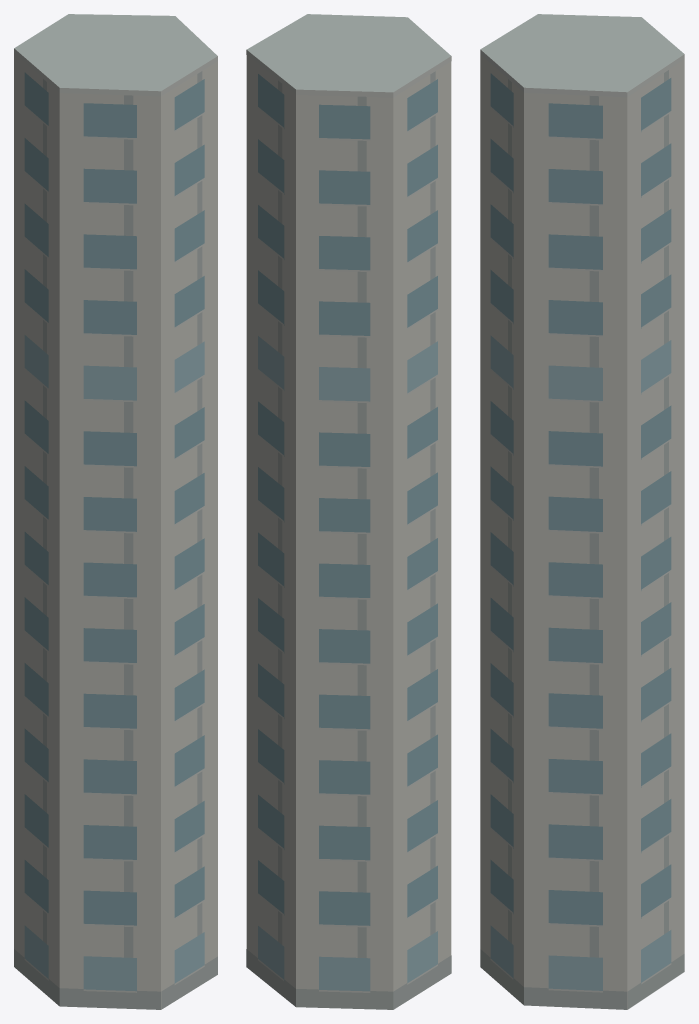
The model's file is survey-upis-32970002.glb.
The picture shows the model from 3 angles, left to right: view 1: azimuth 30°, elevation 25°; view 2: azimuth 150°, elevation 25°; view 3: azimuth 270°, elevation 25°; orthographic projection.
Visible parts, largest first — view 1: survey-upis-32970002.tmp; view 2: survey-upis-32970002.tmp; view 3: survey-upis-32970002.tmp.
Boxes of the visible parts, x1,y1,x2,y2 form: survey-upis-32970002.tmp: [14, 14, 217, 1009]; survey-upis-32970002.tmp: [246, 14, 451, 1009]; survey-upis-32970002.tmp: [480, 14, 684, 1009].
Size of the model in its own units: 7.81 by 42.7 by 8.62.
